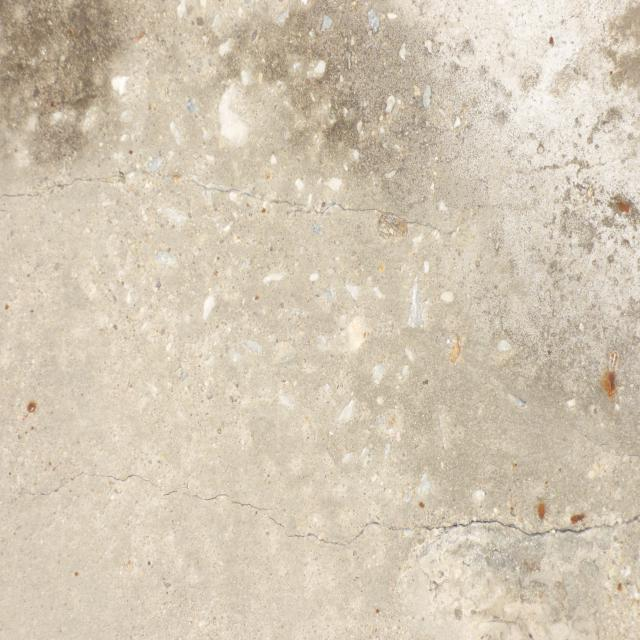corrosion: (408, 481, 604, 552), (586, 359, 640, 425), (14, 380, 58, 430), (602, 182, 637, 237)
